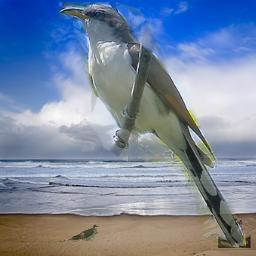Cuckoo: (59, 2, 246, 249), (57, 224, 98, 243)
